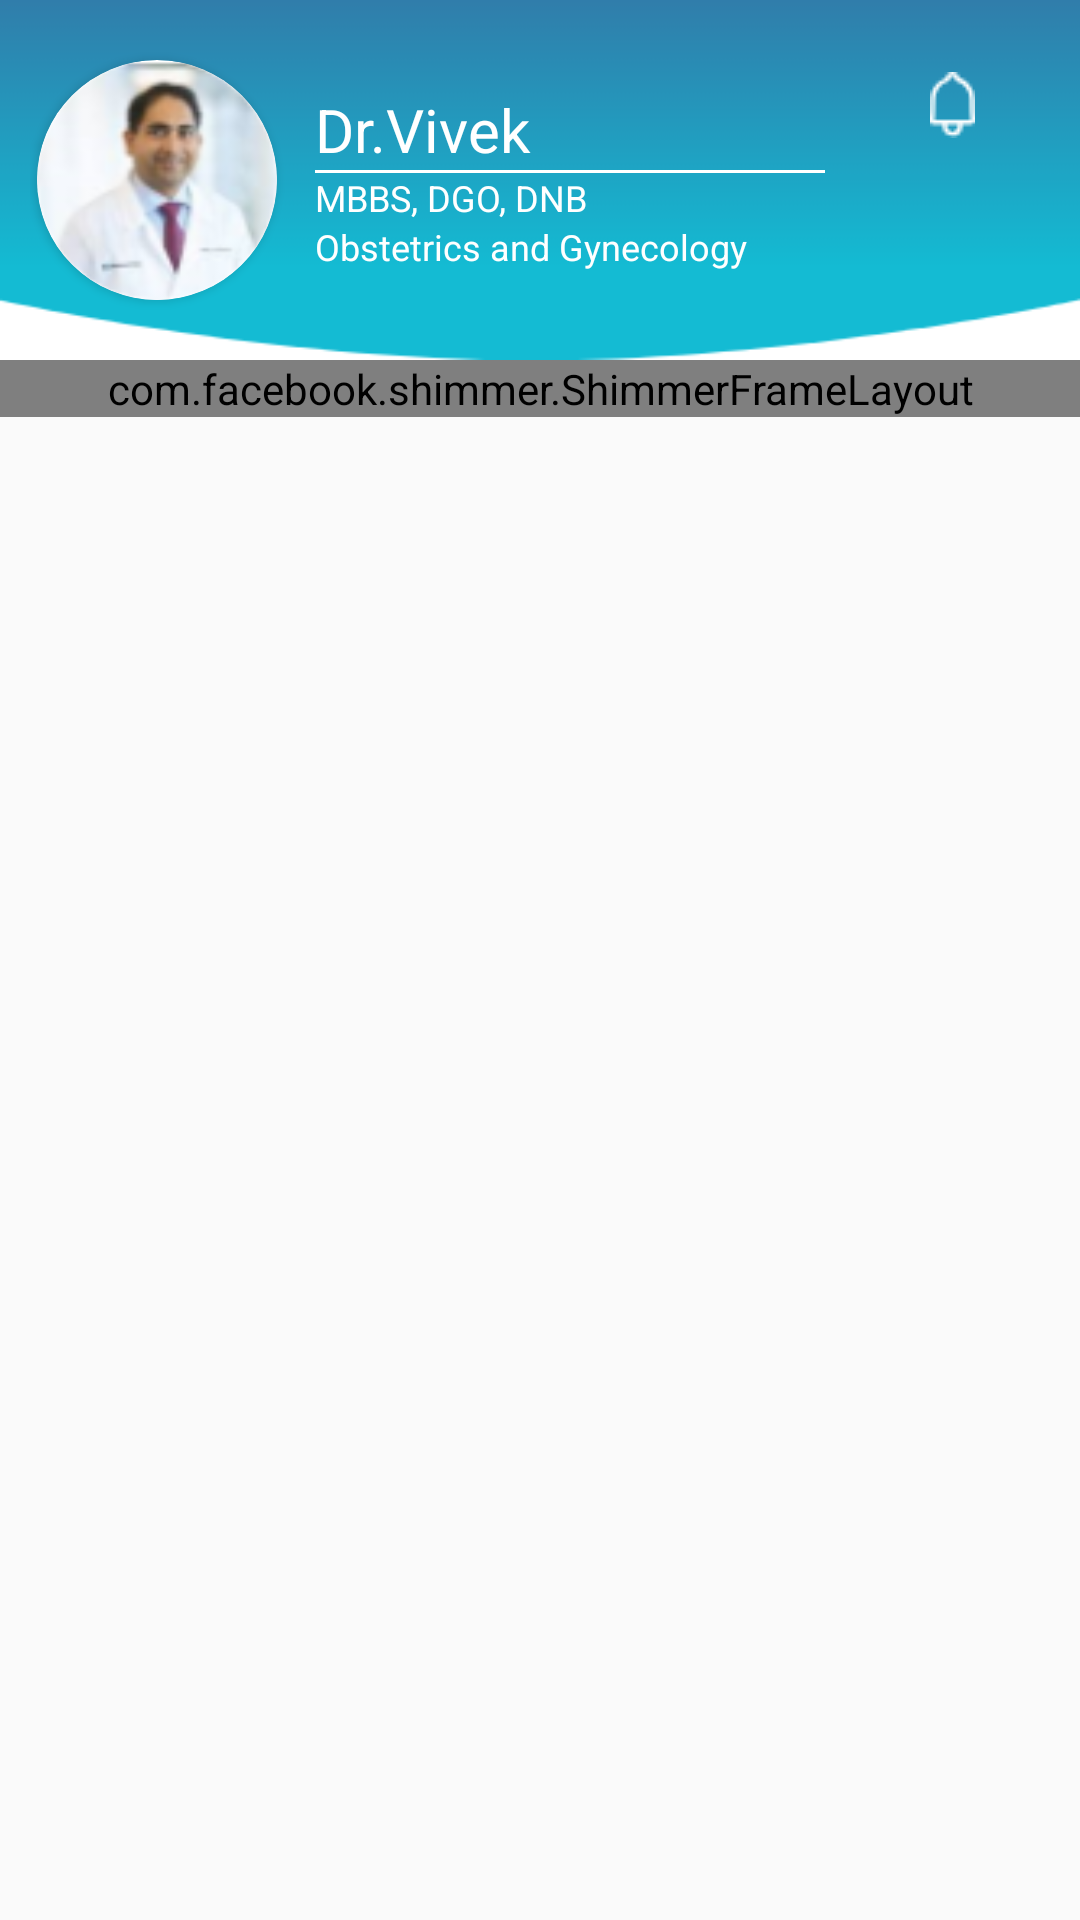

Where to tap for icons on this 1080*1920 app screen, as [x,y]:
doctor profile: [157,180]
notification: [952,105]
